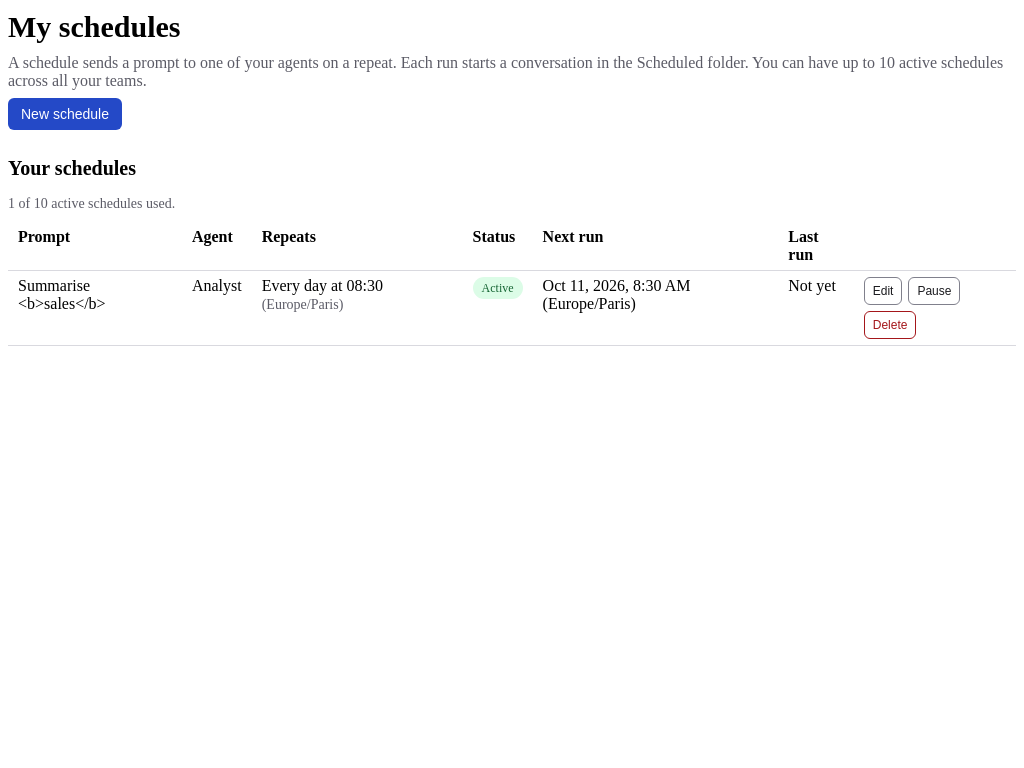
Test: Schedules page (KOBE-175) › pauses, resumes and deletes (ac-1)
The image size is (1024, 768).
Click the button with aria-label "Pause schedule Summarise <b>sales</b>": (934, 290) [908,276,960,304]
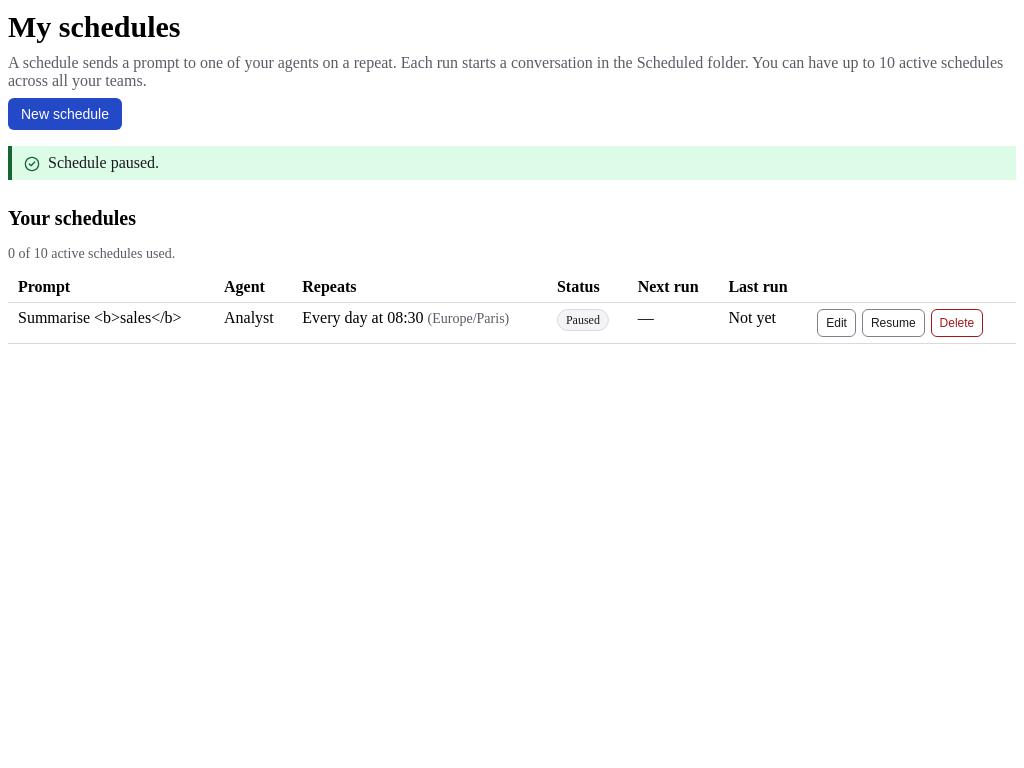
Click the button with aria-label "Resume schedule Summarise <b>sales</b>": (893, 322) [862,308,925,336]
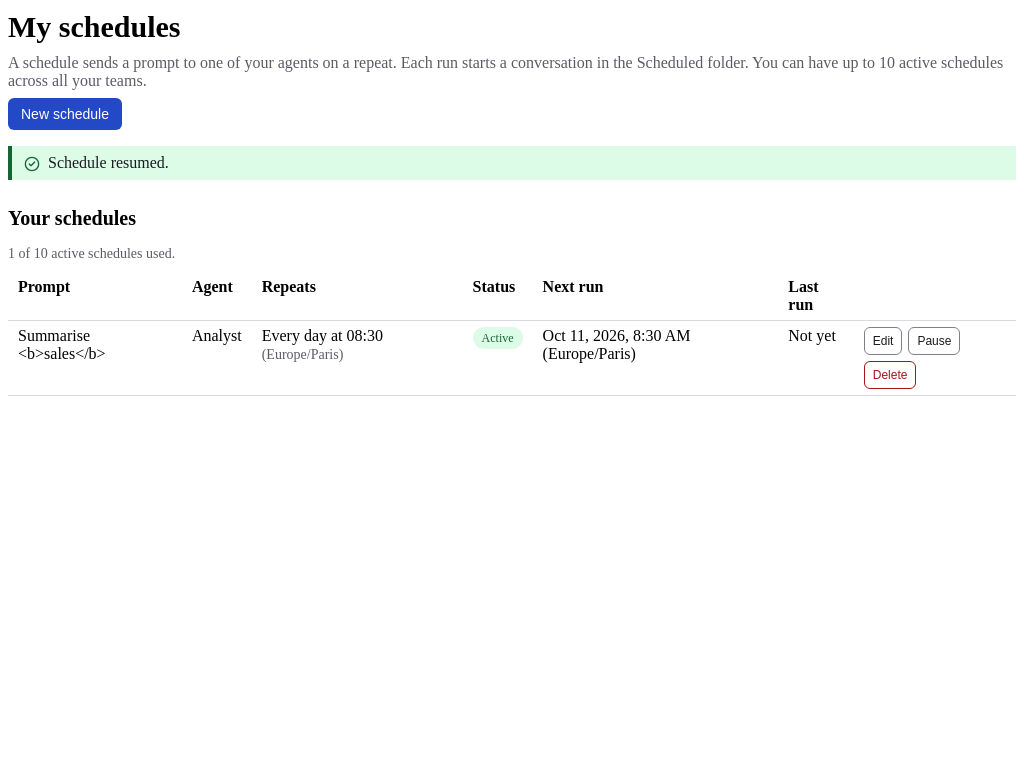
Click the button with aria-label "Delete schedule Summarise <b>sales</b>": (890, 374) [864,360,916,388]
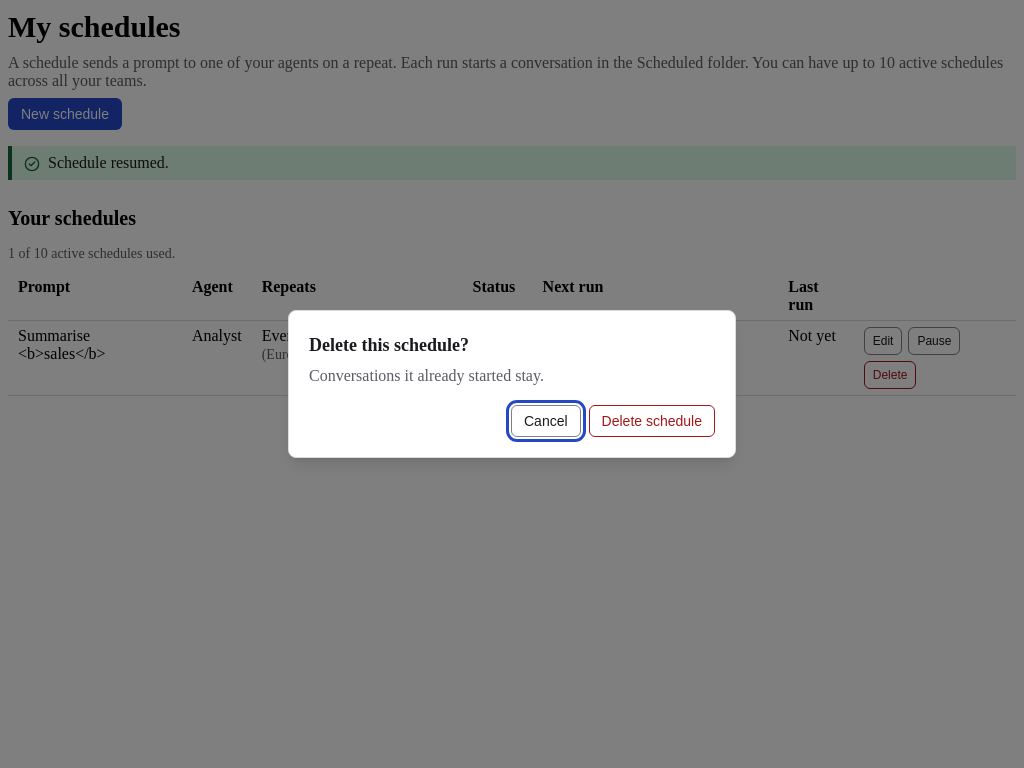
Click the button "Cancel": (546, 421) [511,405,581,437]
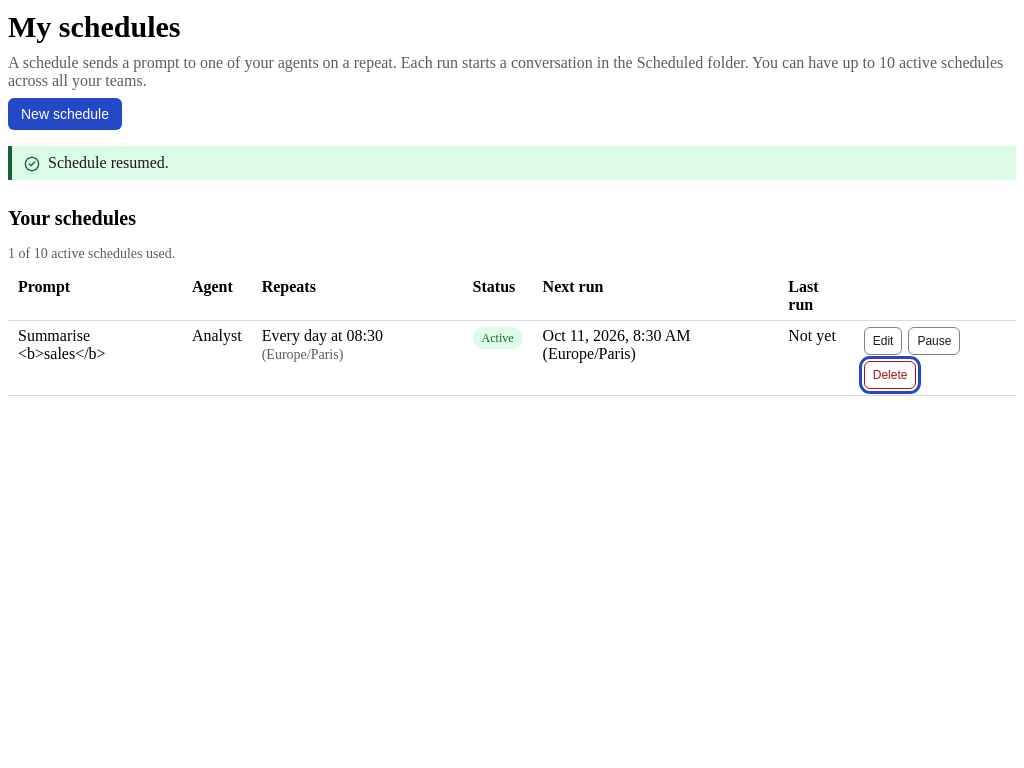
Click the button with aria-label "Delete schedule Summarise <b>sales</b>": (890, 374) [864,360,916,388]
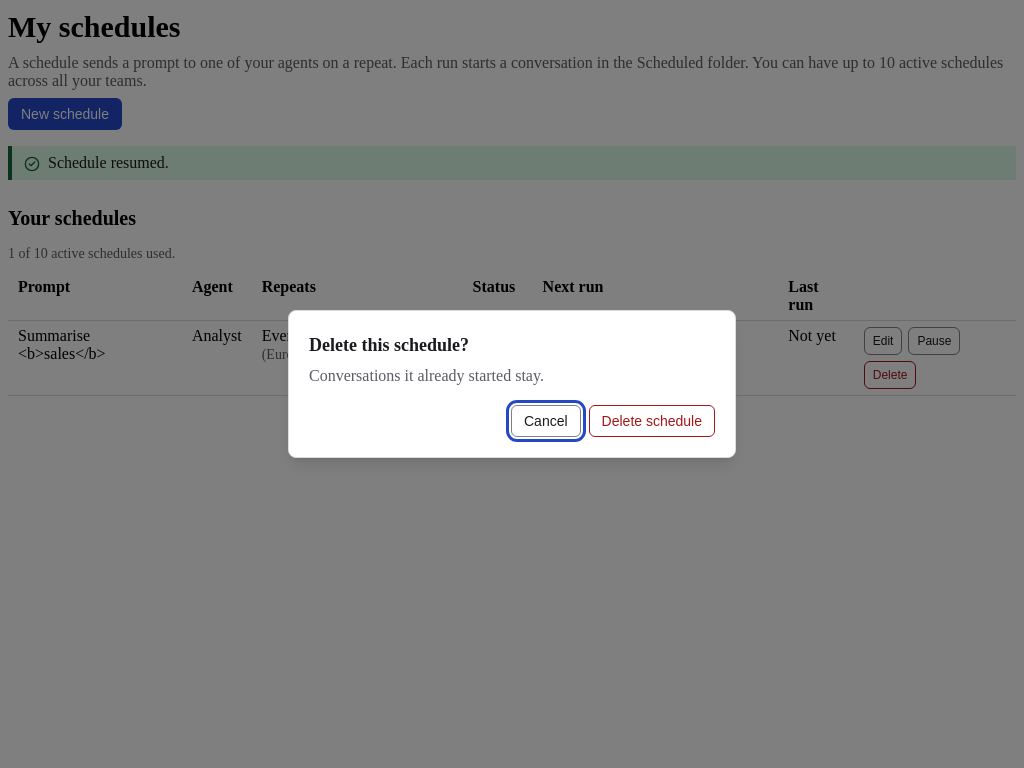
Click the button "Delete schedule": (652, 421) [589,405,715,437]
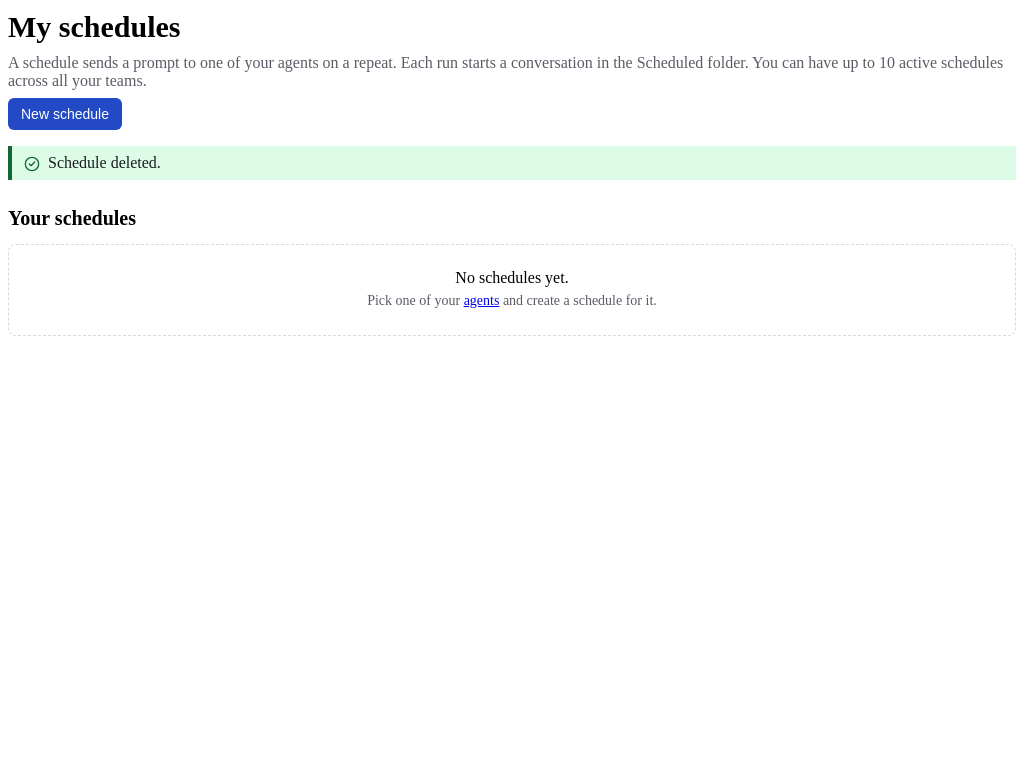
Check: the text "No schedules yet." is shown, box [455,268,569,286]
